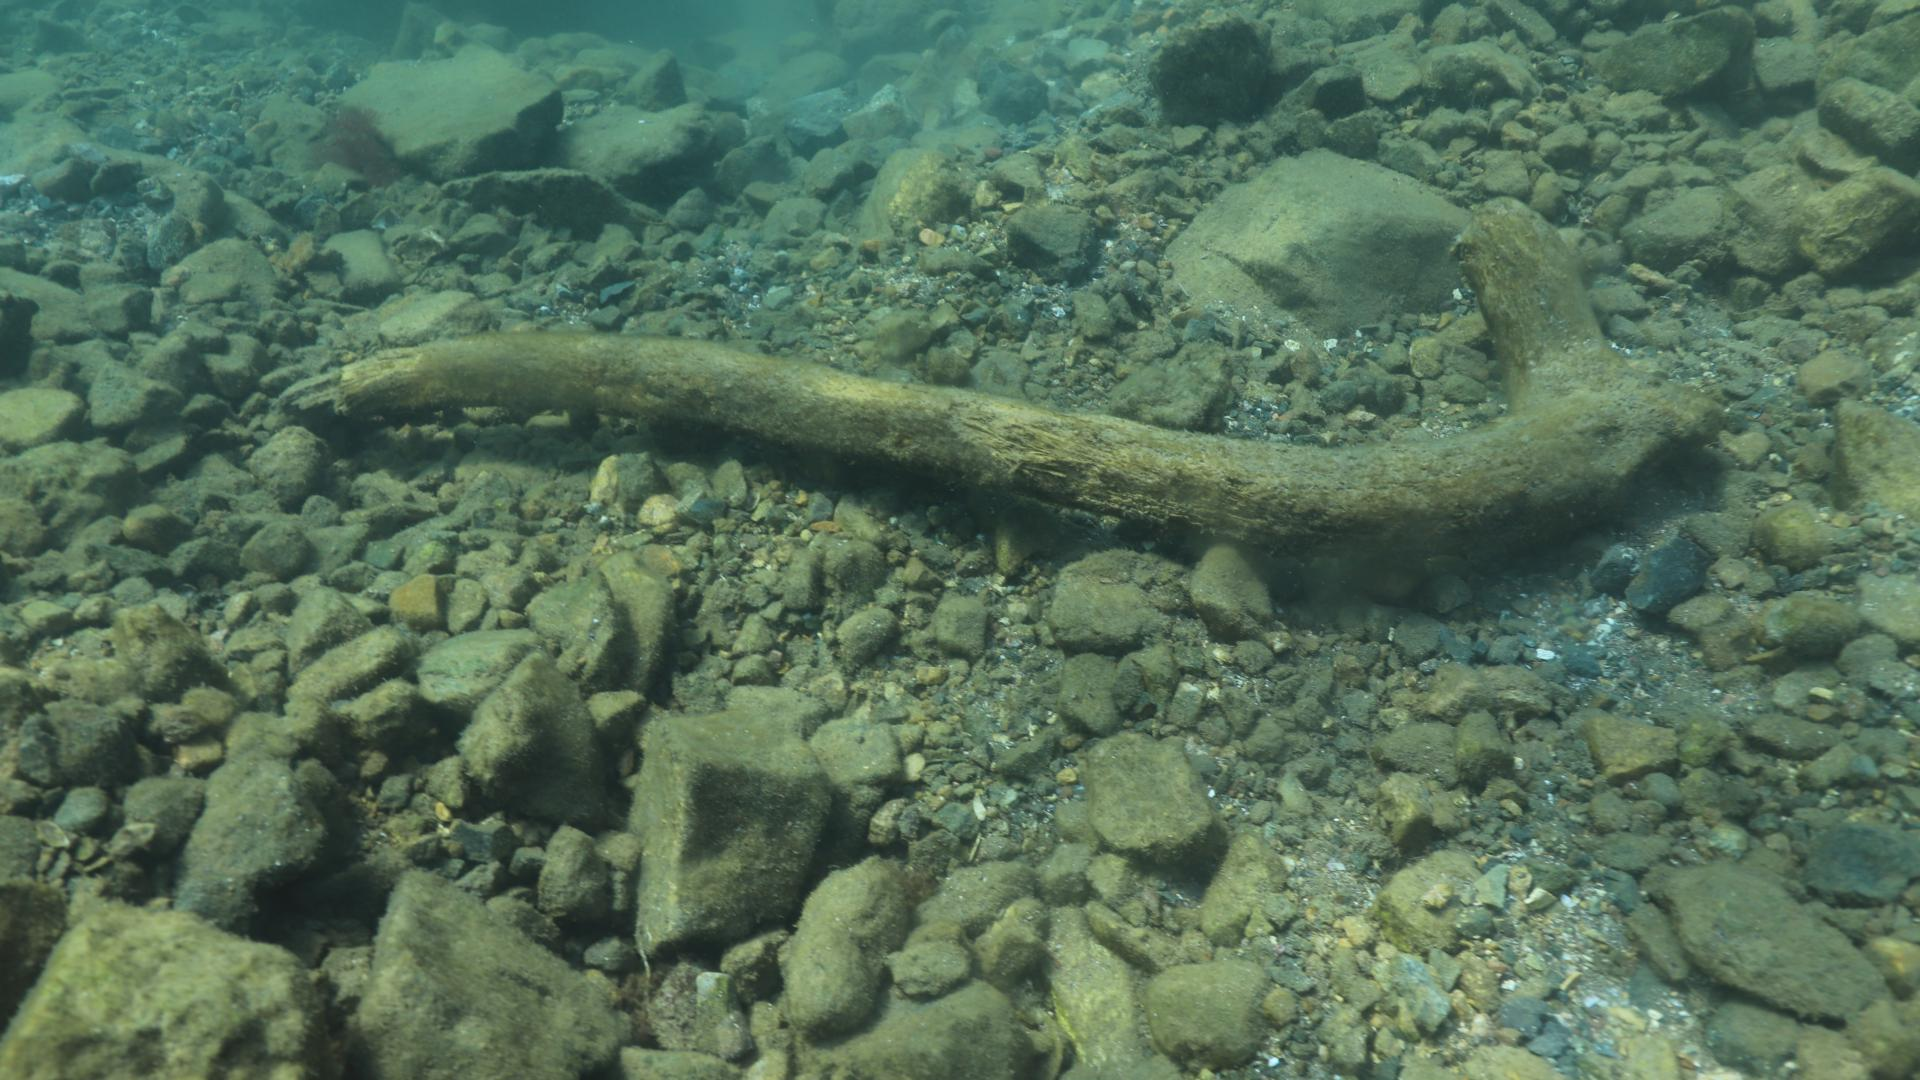wood: (336, 210, 1724, 560)
